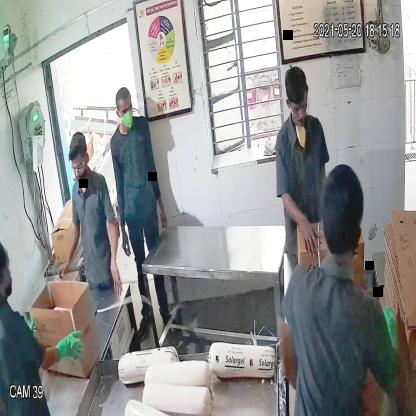goggles: (285, 96, 310, 118)
no_goggles: (113, 103, 134, 118)
